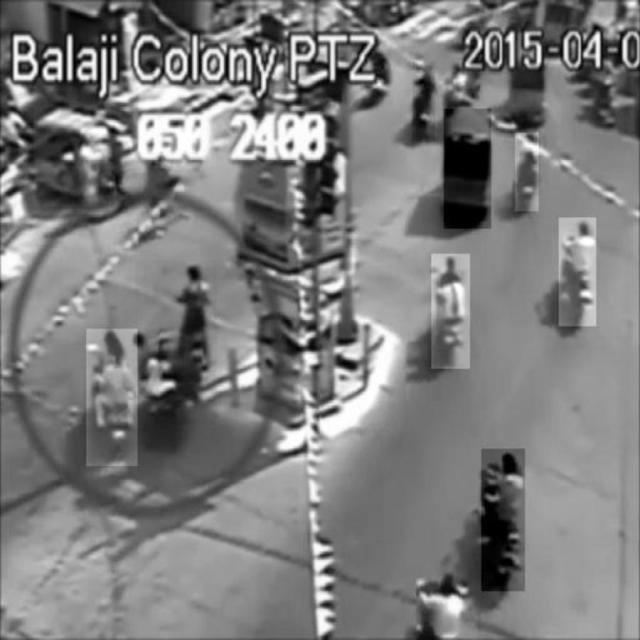accident: (136, 261, 218, 426)
vehicle: (34, 105, 111, 206), (86, 329, 137, 466), (482, 449, 526, 591), (444, 109, 491, 229), (432, 255, 470, 369), (559, 218, 596, 326), (515, 133, 539, 211), (413, 62, 435, 142)
